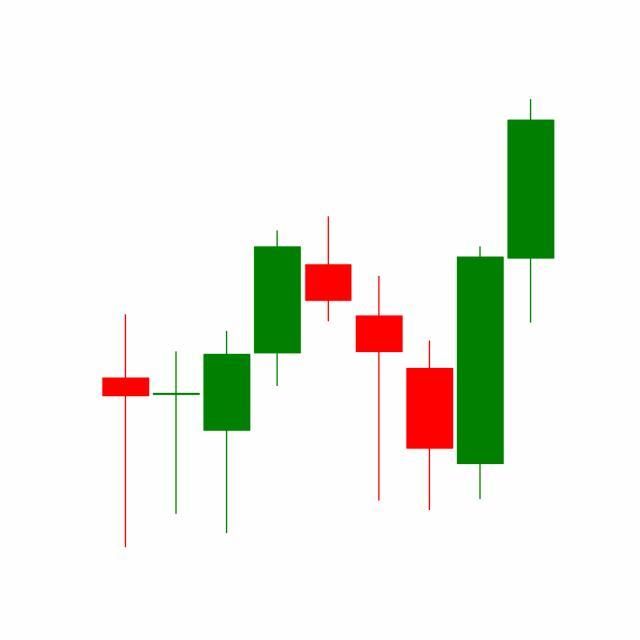Three Line Strike: (303, 214, 507, 515)
